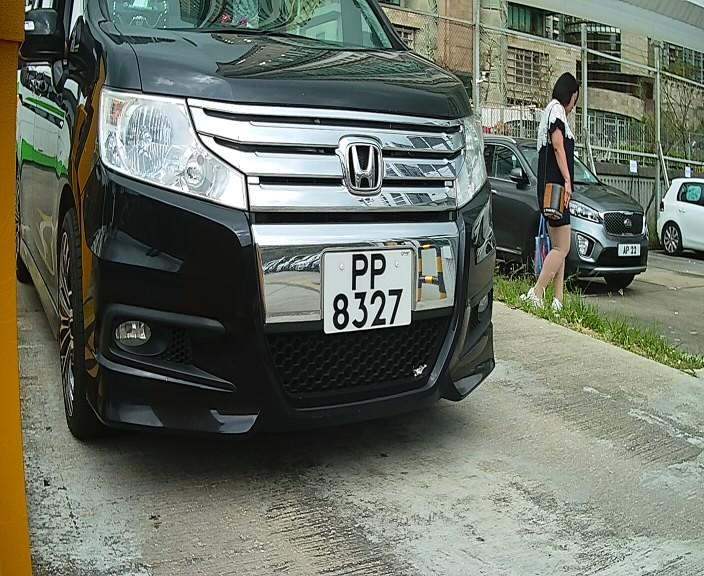Car: (13, 2, 525, 469)
License Plate: (308, 233, 430, 350)
